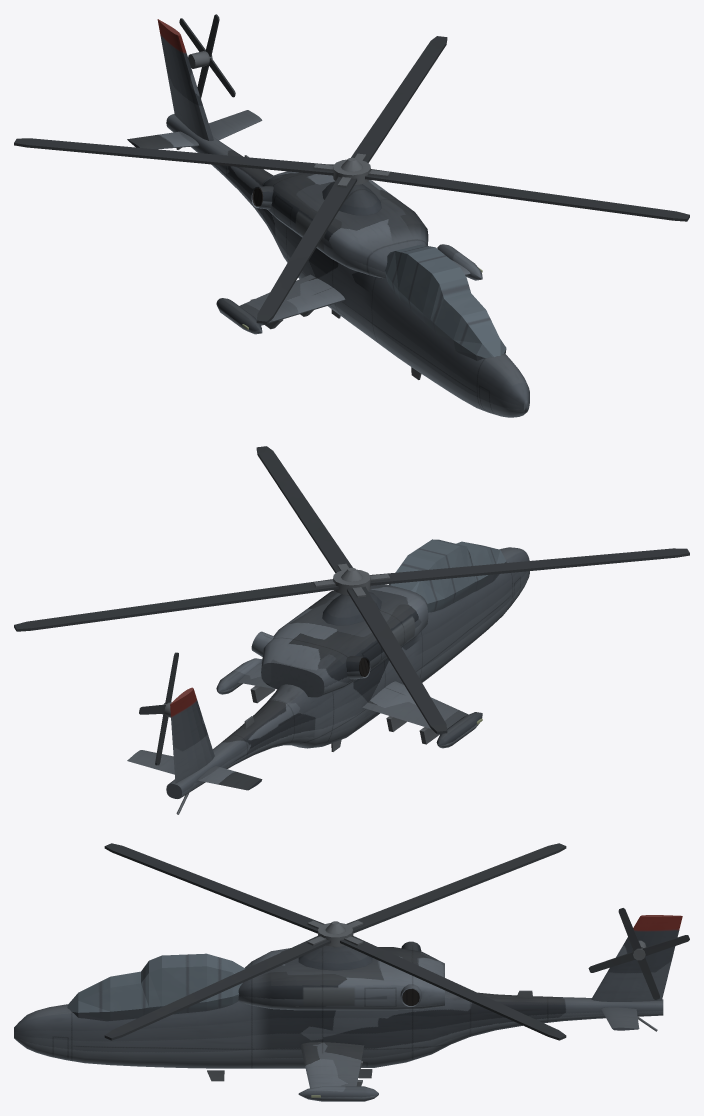
The model's file is attack-helicopter.fbx.
3 views of the same model, one above another, from view 1: azimuth 30°, elevation 25°; view 2: azimuth 150°, elevation 25°; view 3: azimuth 270°, elevation 25° (orthographic). The views are drawn at different scales.
Parts seen in each view (by area): view 1: Body, MainRotor, TailRotor; view 2: Body, MainRotor, TailRotor; view 3: Body, MainRotor, TailRotor.
Boxes of the visible parts, <box> form: Body: <box>127,19,529,417</box>; MainRotor: <box>14,36,689,324</box>; TailRotor: <box>179,14,235,97</box>; Body: <box>127,539,529,814</box>; MainRotor: <box>14,446,689,734</box>; TailRotor: <box>139,652,178,765</box>; Body: <box>14,915,682,1101</box>; MainRotor: <box>104,843,566,1040</box>; TailRotor: <box>588,908,689,999</box>.
Bounding box in the file's own units: 14.36 × 6.24 × 21.02.
Materials: 1 (1 with a texture image).
